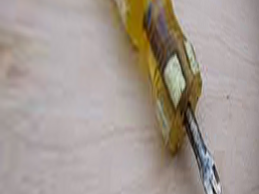Screwdriver: (114, 1, 243, 194)
